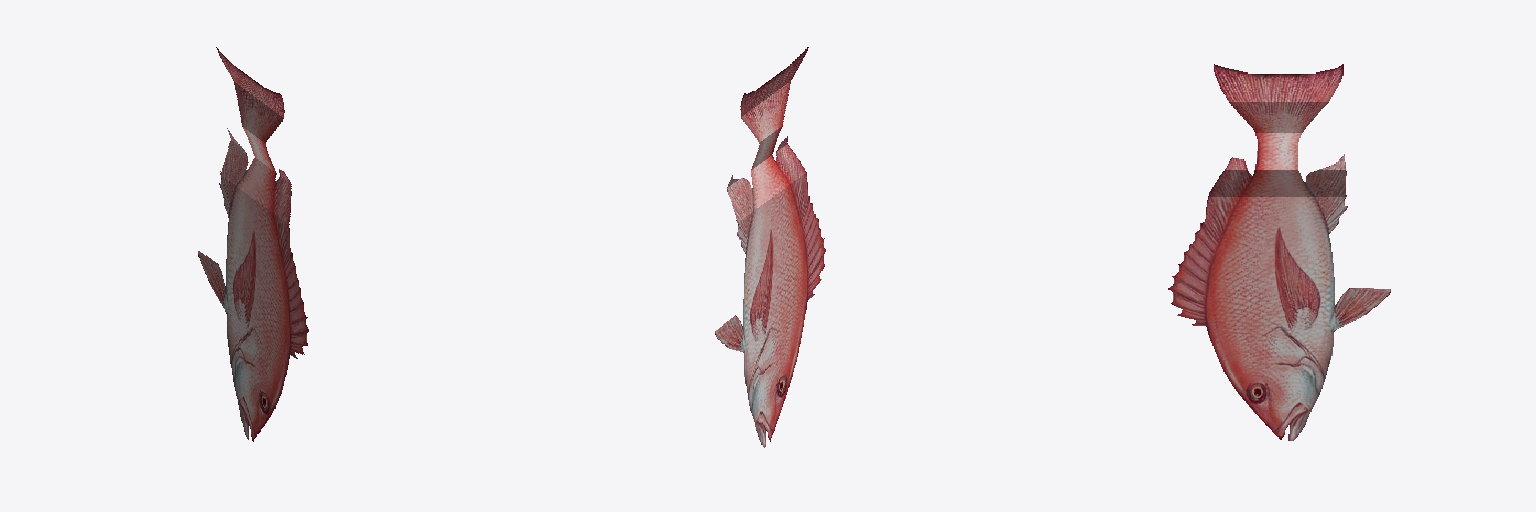
3 views of the same model, side by side, from view 1: azimuth 30°, elevation 25°; view 2: azimuth 150°, elevation 25°; view 3: azimuth 270°, elevation 25° (orthographic).
Size of the model in its own units: 0.0878 by 1.97 by 1.06.
1 materials, 1 textured.